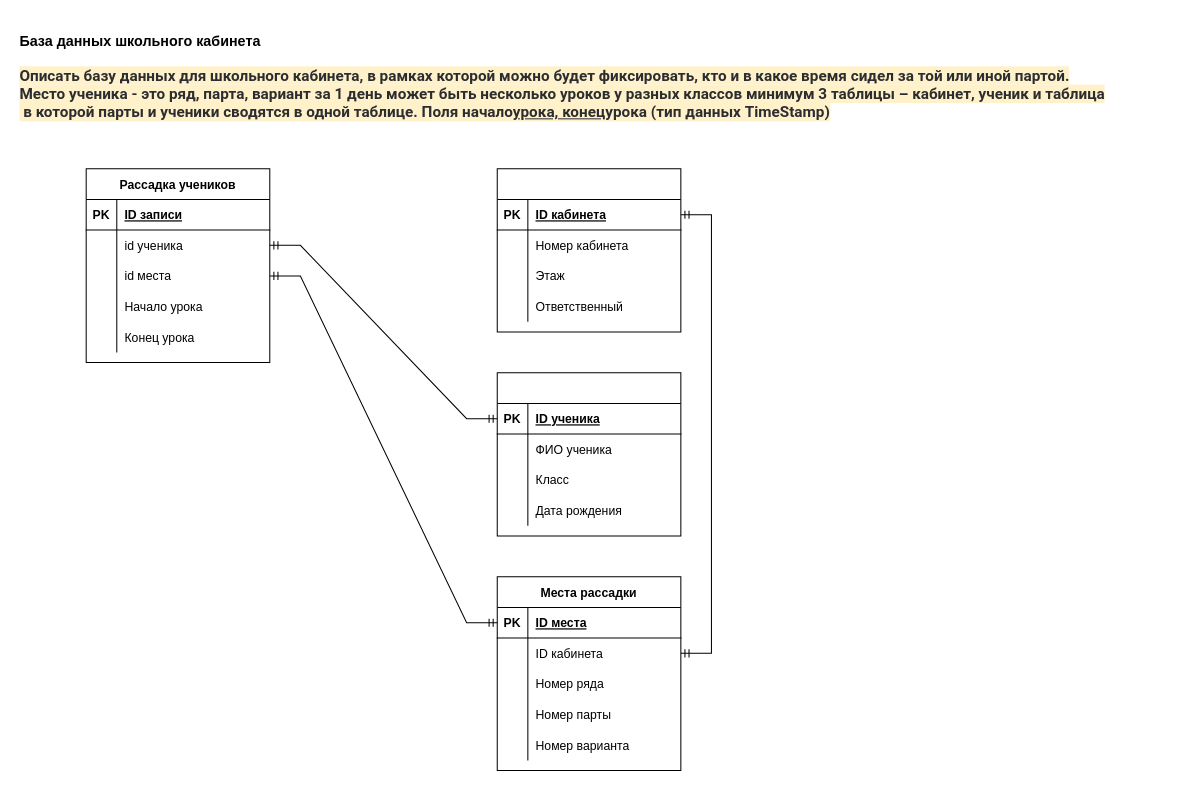
The diagram is 1177 pixels wide and 788 high, and some of its shapes have lost their labels. The box of each missing label's shape, as (x1, y1, x2, y2) in pixels:
Кабинеты: (496, 168, 681, 332)
Ученики: (496, 372, 681, 536)
